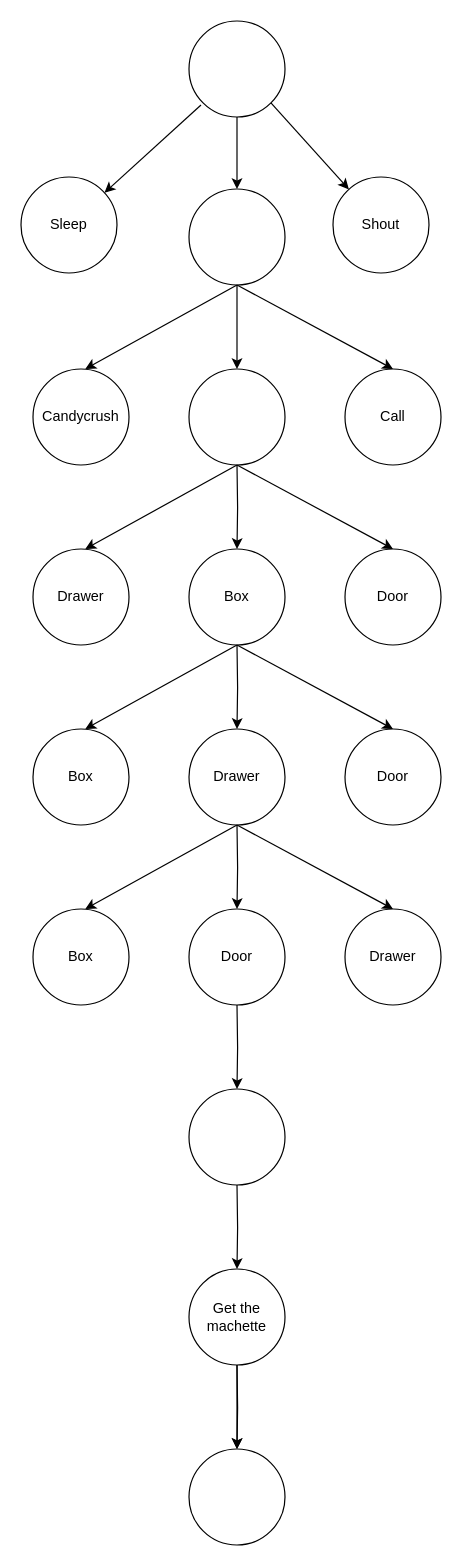
The diagram is 462 pixels wide and 1566 high, and some of its shapes have lost their labels. The box of each missing label's shape, as (x1, y1, x2, y2) in pixels:
Cut the vines: (188, 1448, 285, 1545)
Get the Lantern: (188, 1088, 285, 1185)
Mobile: (188, 188, 285, 285)
Start: (188, 20, 285, 117)
Torch: (188, 368, 285, 465)
